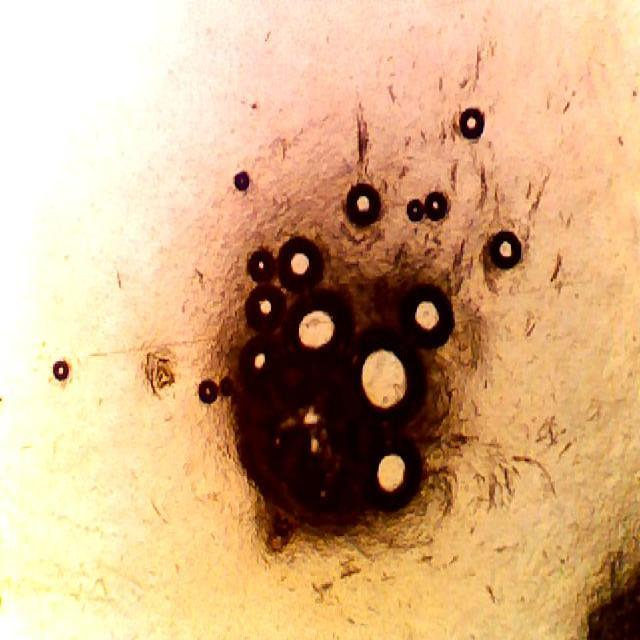microbeads: (342, 180, 386, 232), (488, 230, 524, 276)
